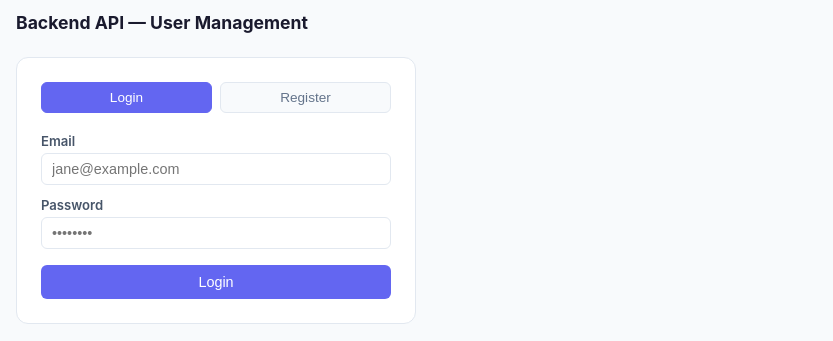
Test: BackendPage — authenticated › shows users list after login
Type "alice@example.com" into the field with placeholder "jane@example.com".
click(216, 169); type("alice@example.com")  # box [41,153,391,185]
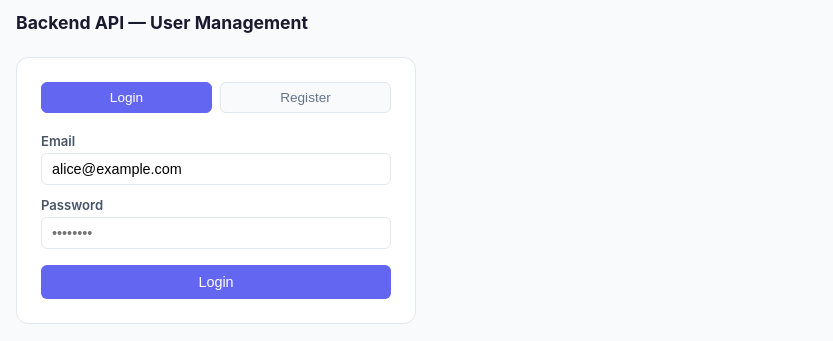
Type "pass" into the password field with placeholder "••••••••".
click(216, 233); type("pass")  # box [41,217,391,249]
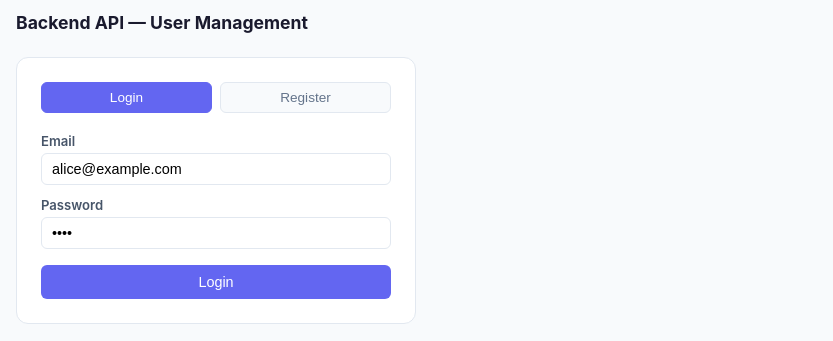
Click the button "Login" below "Password".
click(216, 282)  # box [41,265,391,299]
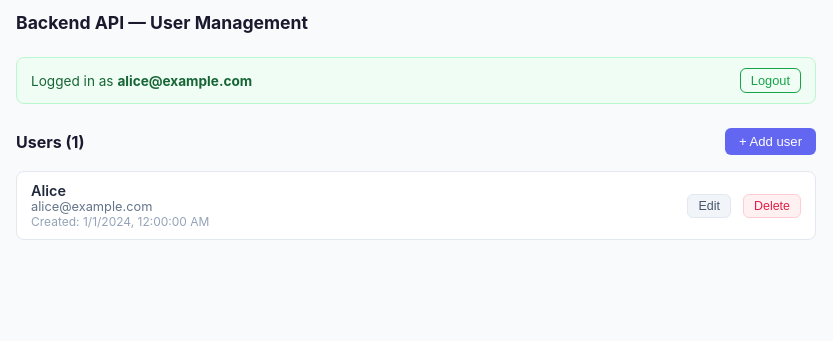
expect the text "Alice" is shown: met, box [31,182,66,199]
